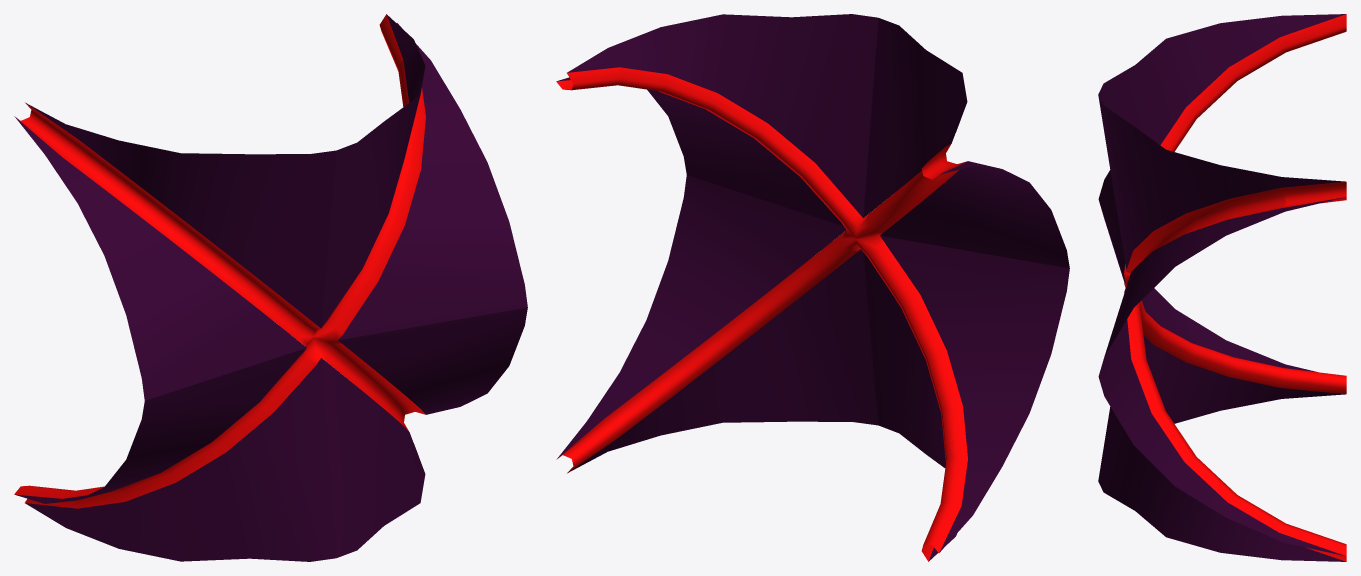
Rendered from Cath_arcVaultFull_s.FBX.
The picture shows the model from 3 angles, left to right: view 1: azimuth 30°, elevation 25°; view 2: azimuth 150°, elevation 25°; view 3: azimuth 270°, elevation 25°; orthographic projection. The views are drawn at different scales.
Parts seen in each view (by area): view 1: Cath_arcVaultFull_s; view 2: Cath_arcVaultFull_s; view 3: Cath_arcVaultFull_s.
Part boxes in pixels (x1,y1,x2,y2): Cath_arcVaultFull_s: (14, 14, 527, 561); Cath_arcVaultFull_s: (556, 14, 1069, 561); Cath_arcVaultFull_s: (1098, 14, 1346, 561).
Bounding box in the file's own units: 350 × 206 × 354.
